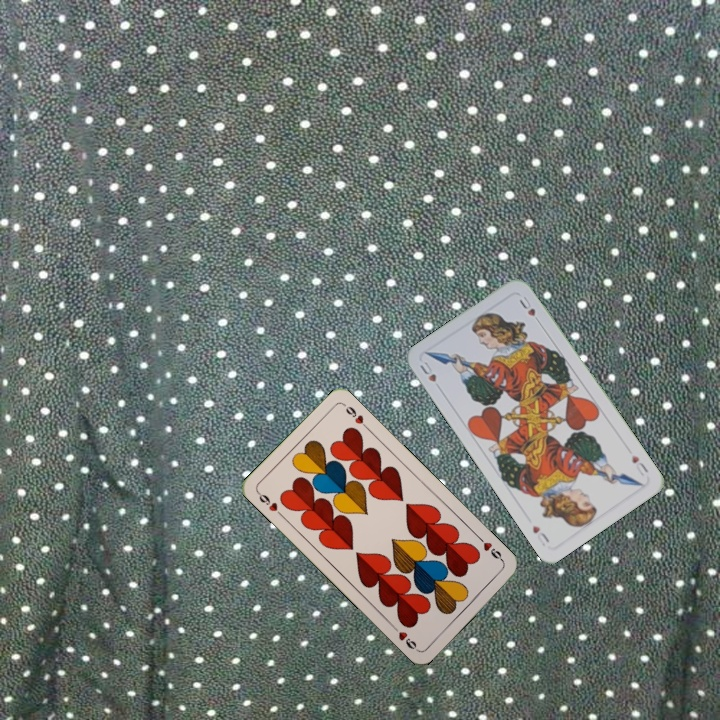H9: (474, 533, 506, 565), (253, 488, 286, 519)
HU: (627, 451, 651, 479), (416, 357, 439, 384)
